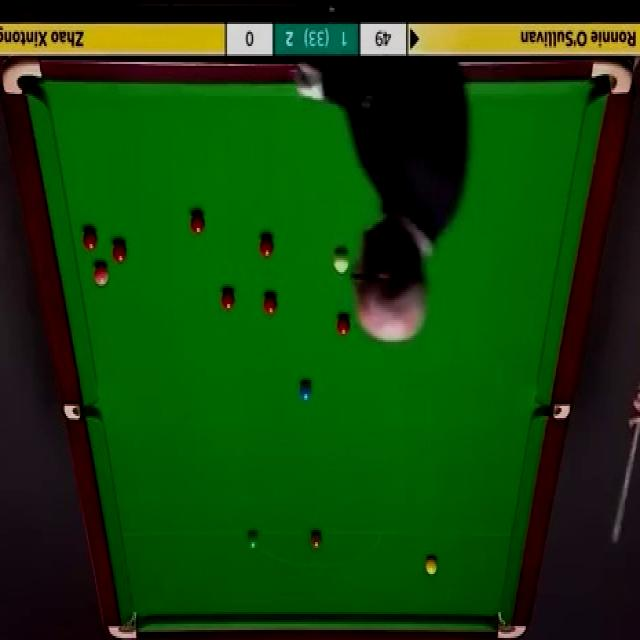blue-ball: (299, 378, 312, 404)
brown-ball: (309, 531, 323, 549)
green-ball: (245, 530, 260, 552)
pink-ball: (93, 263, 110, 287)
red-ball: (262, 292, 280, 315), (113, 239, 128, 265), (260, 234, 275, 258), (190, 212, 206, 234), (220, 288, 234, 312), (82, 227, 96, 251), (337, 316, 351, 337)
white-ball: (334, 250, 351, 274)
yellow-ball: (425, 555, 437, 574)
